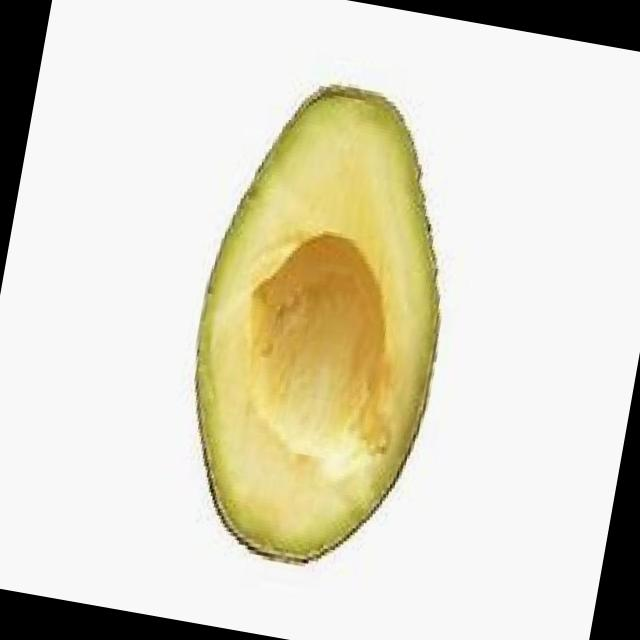avocado: (150, 50, 485, 592)
